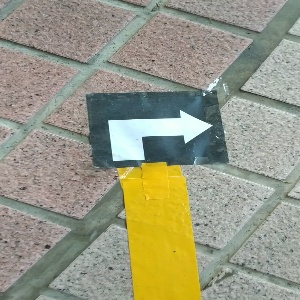right: (84, 90, 226, 168)
